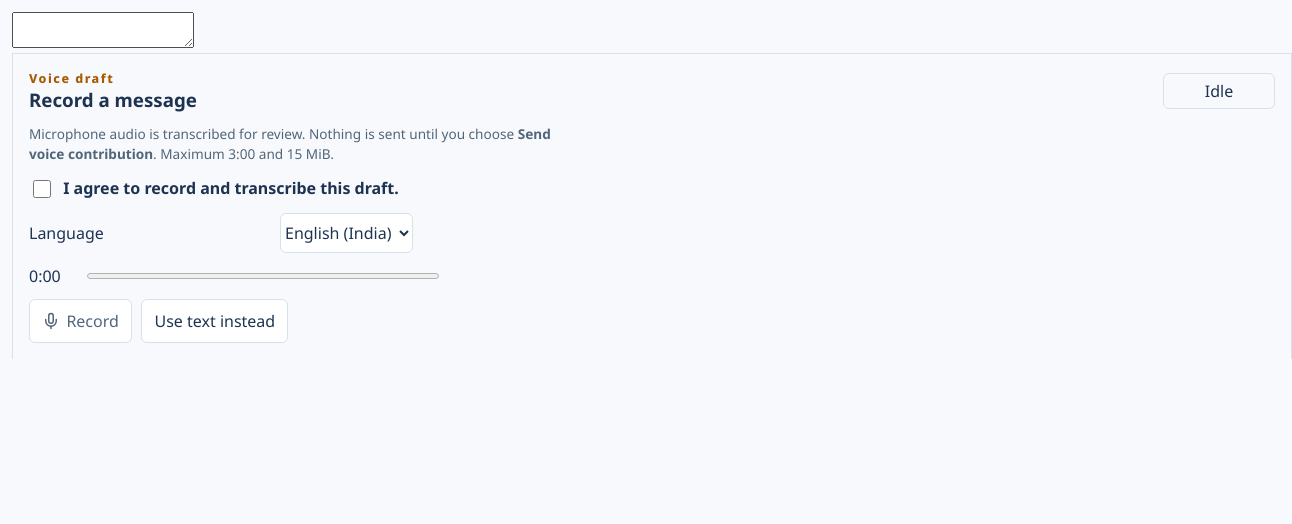
Test case: retains the page-local draft while offline and retries with the same audio
Click the checkbox: x=42, y=189 [33, 180, 51, 198]
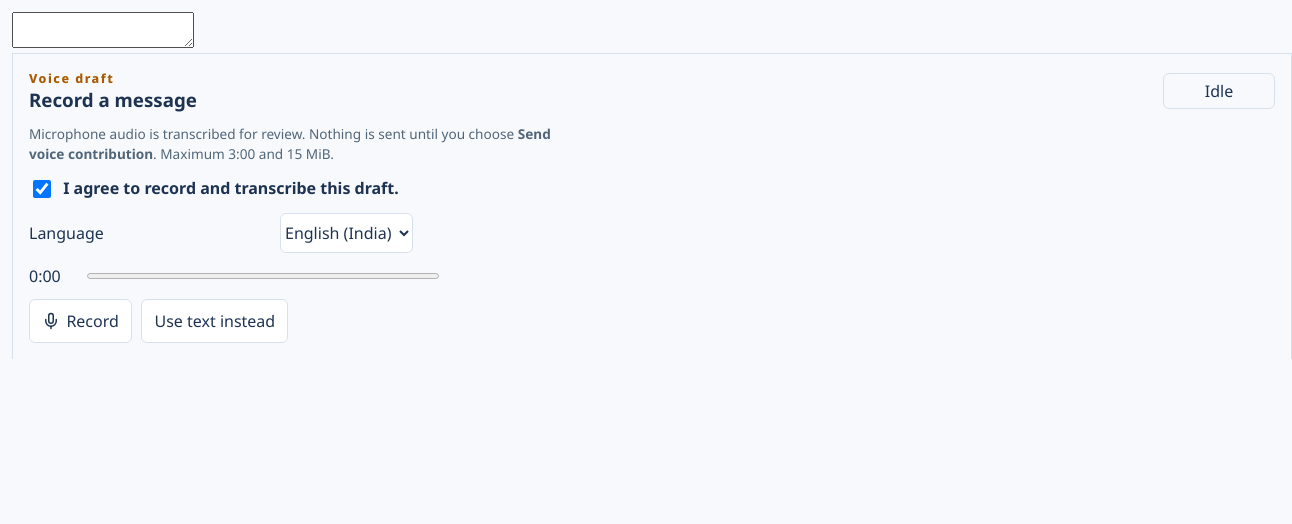
Click the button "Record": x=80, y=321 [29, 299, 132, 343]
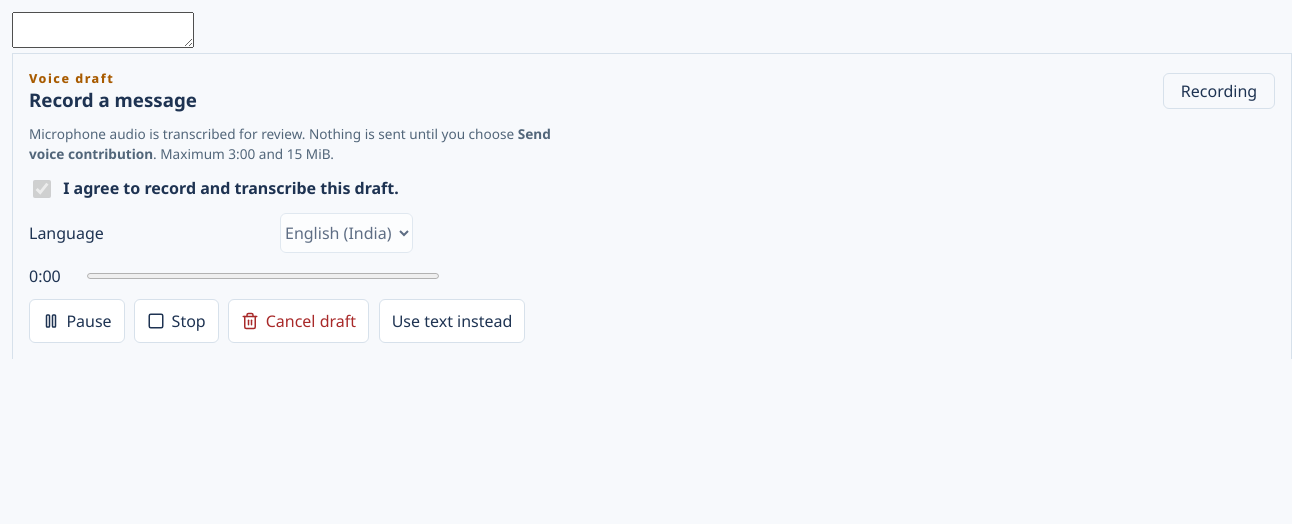
Expected: the button "Stop" is shown
Click the button "Stop": x=176, y=321 [134, 299, 219, 343]
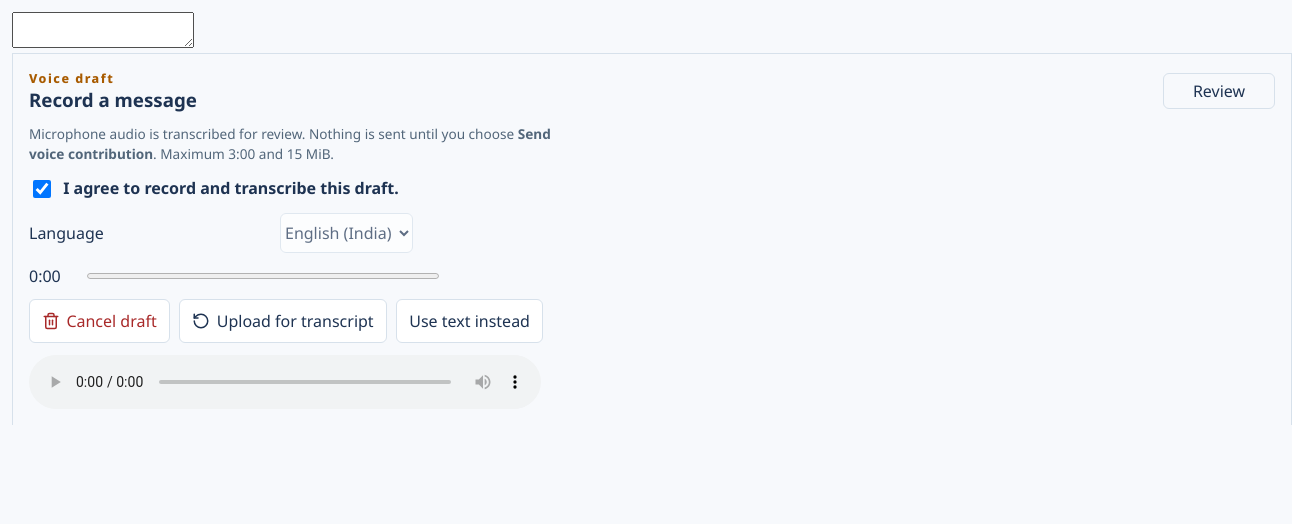
Expected: the button "Upload for transcript" is shown
Click the button "Upload for transcript": x=283, y=321 [179, 299, 387, 343]
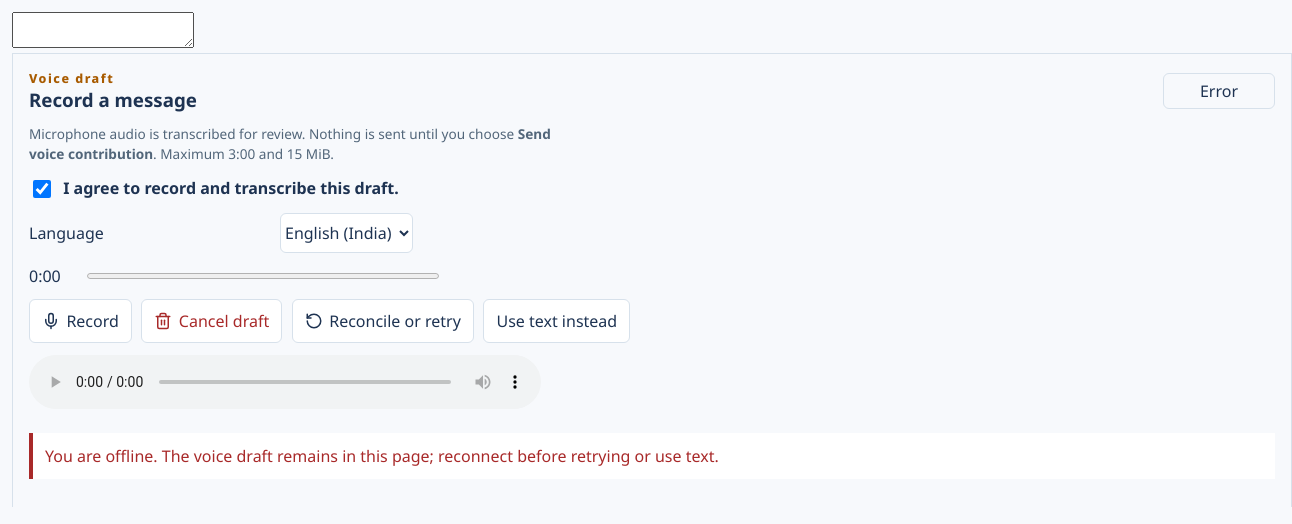
Expected: the text "Audio playback is unavailable. Use text instead." is shown, [29, 355, 541, 409]
Expected: the text "offline" is shown, [45, 445, 719, 467]
Expected: the button "Reconcile or retry" is shown, [292, 299, 474, 343]
